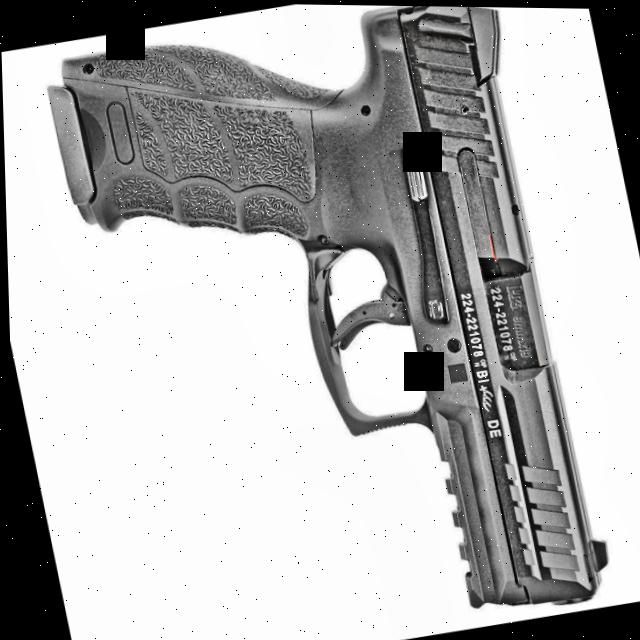HKVP9: (37, 0, 619, 640)
